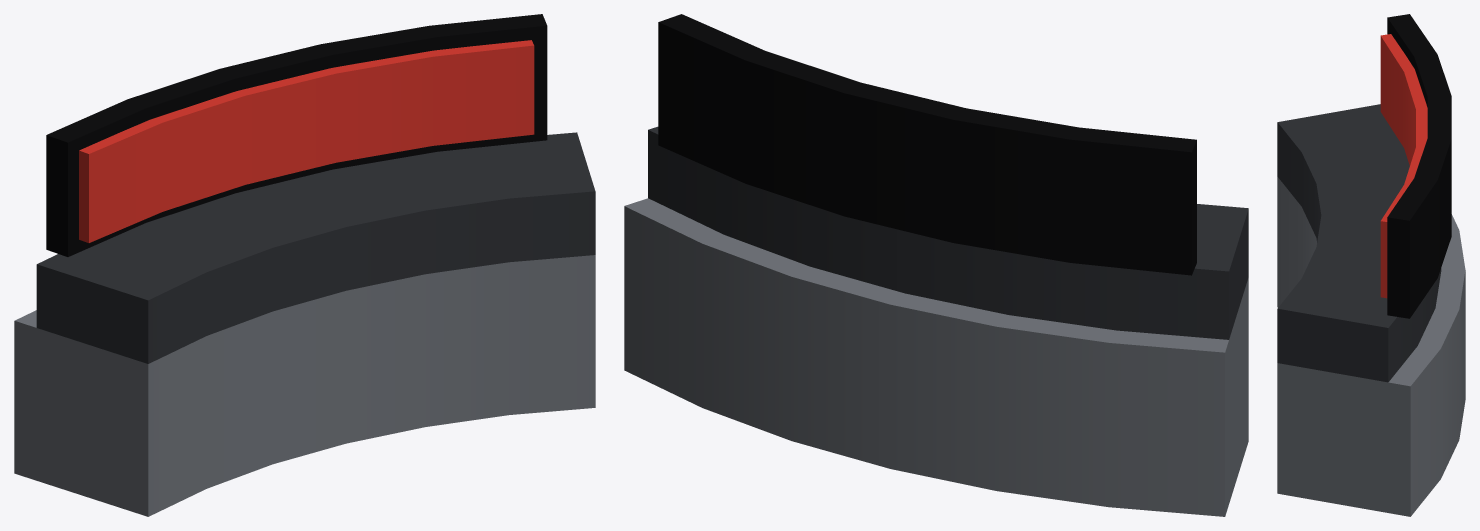
File: curve_console.glb
The picture shows the model from 3 angles, left to right: view 1: azimuth 30°, elevation 25°; view 2: azimuth 150°, elevation 25°; view 3: azimuth 270°, elevation 25°; orthographic projection. The views are drawn at different scales.
Visible parts, largest first — view 1: sw5e_int_curve_console; view 2: sw5e_int_curve_console; view 3: sw5e_int_curve_console.
Boxes of the visible parts, left/top/right/bottom form: sw5e_int_curve_console: left=14, top=14, right=595, bottom=516; sw5e_int_curve_console: left=624, top=14, right=1248, bottom=516; sw5e_int_curve_console: left=1277, top=14, right=1465, bottom=516.
Bounding box in the file's own units: 2.3 × 1.3 × 0.7827.
